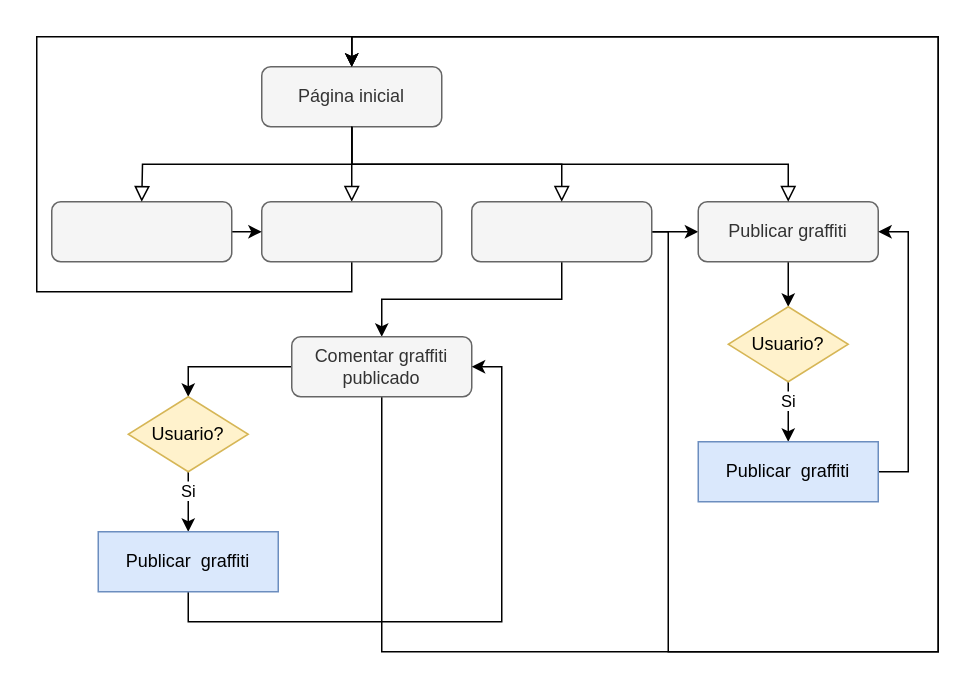
This 977x690 diagram has some shape labels left out. The centre of each missing label's shape, as x and y in pixels:
Autentificarse: the point at 351,231
Registrarse: the point at 141,231
Ver graffitis publicados: the point at 561,231
